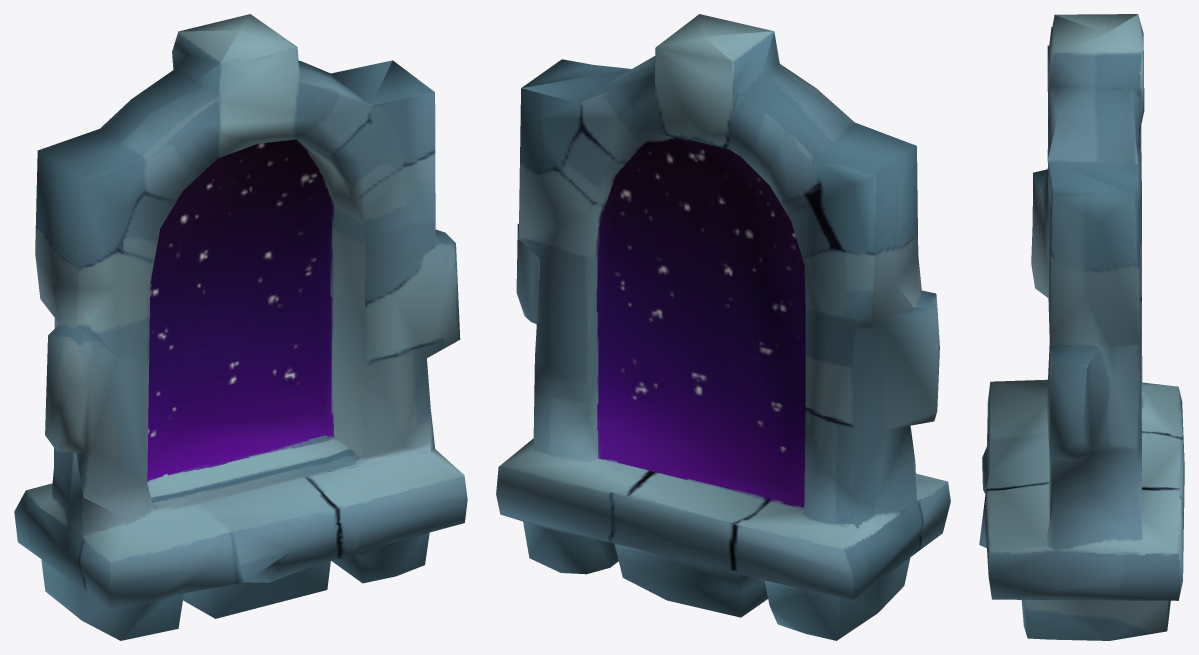
Rendered from void-window.glb.
3 views of the same model, side by side, from view 1: azimuth 30°, elevation 25°; view 2: azimuth 150°, elevation 25°; view 3: azimuth 270°, elevation 25° (orthographic).
Parts seen in each view (by area): view 1: geometry_0.001; view 2: geometry_0.001; view 3: geometry_0.001.
Part boxes in pixels (box(x1,y1,x2,y2)): geometry_0.001: box(14, 14, 467, 640); geometry_0.001: box(496, 14, 950, 640); geometry_0.001: box(979, 14, 1184, 640).
Size of the model in its own units: 0.7921 by 0.9998 by 0.3449.
1 material, 1 textured.
